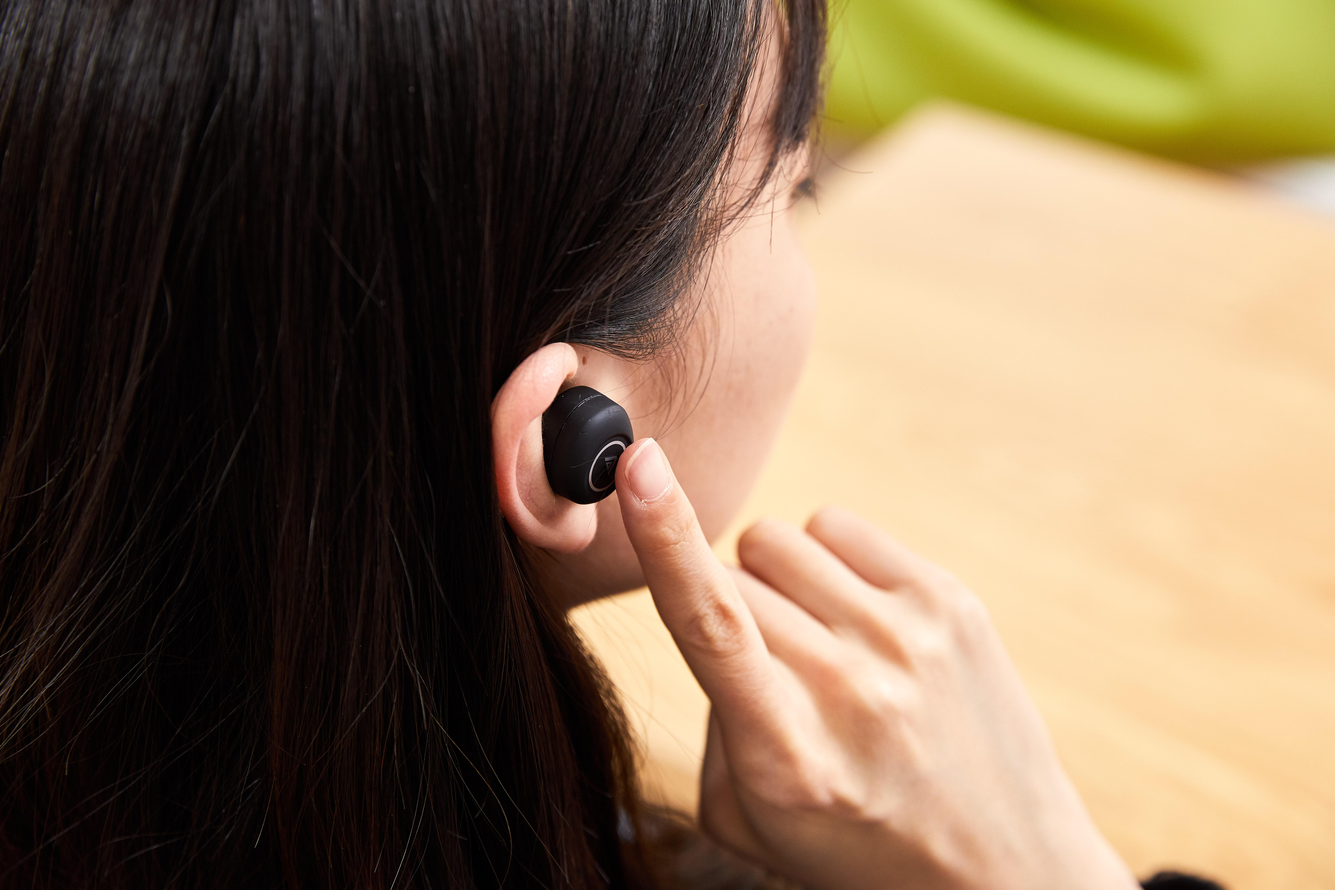earphone: (541, 386, 658, 507)
